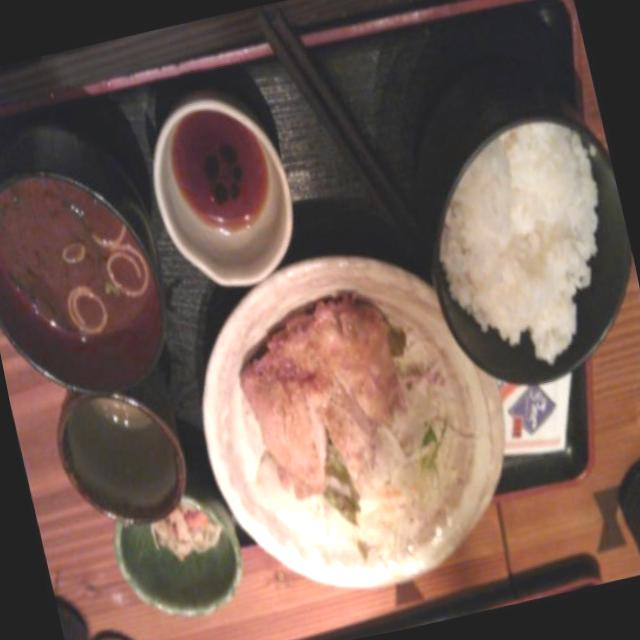Rice: (410, 109, 640, 389)
